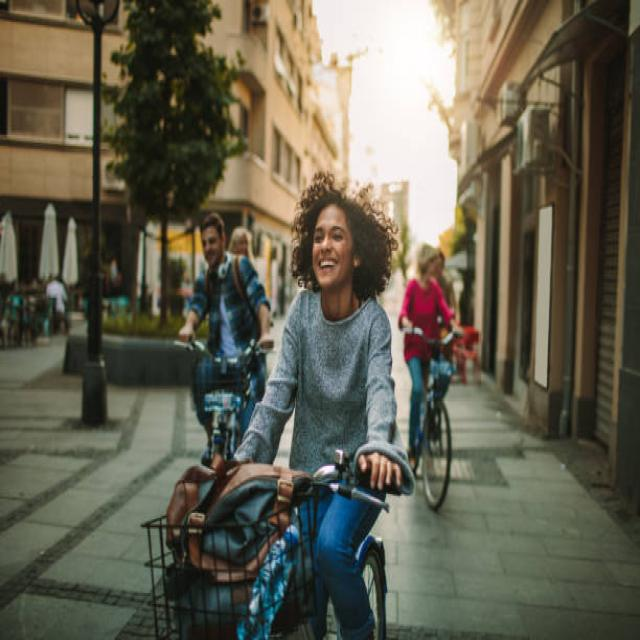bicycle: (145, 174, 412, 639), (179, 212, 274, 464), (399, 244, 461, 510)
